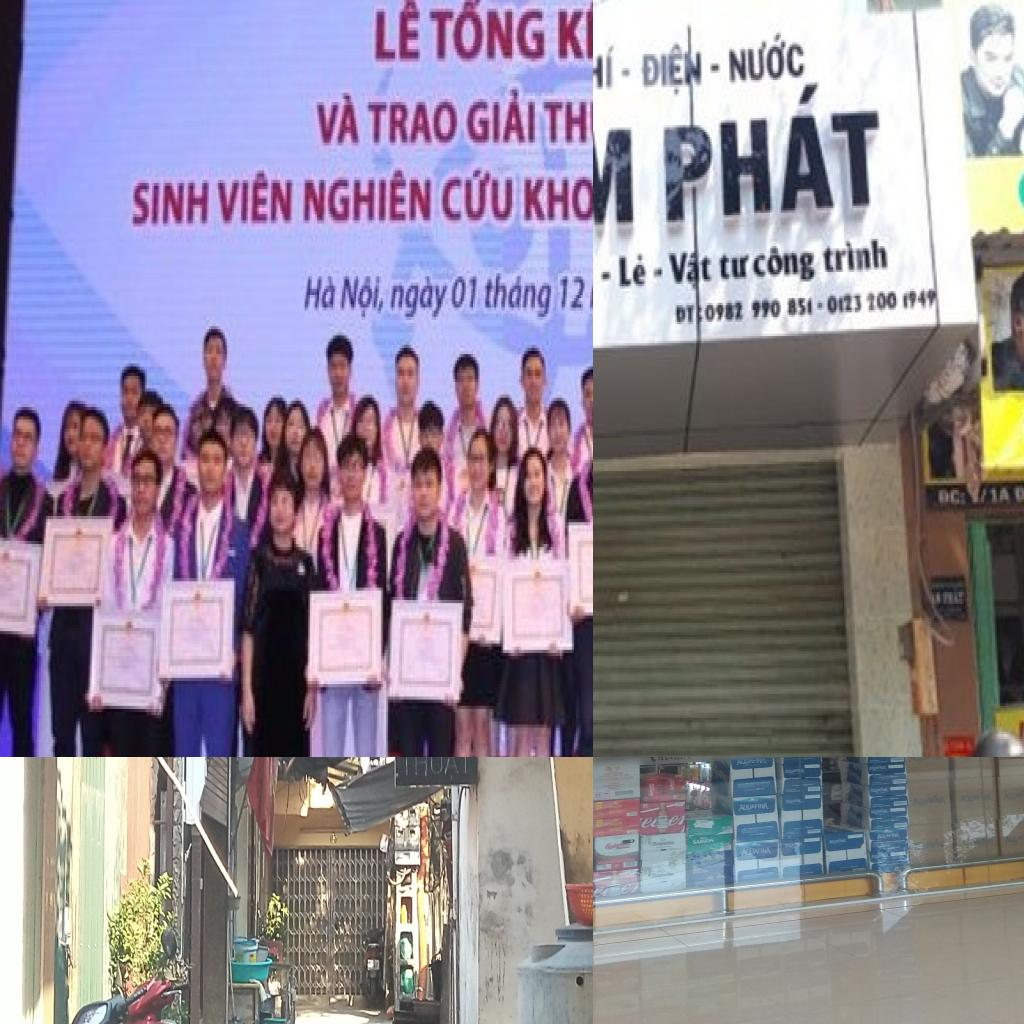text: (652, 75, 886, 232), (301, 161, 436, 233), (427, 0, 551, 71), (210, 164, 298, 236), (439, 155, 519, 230), (466, 77, 540, 155), (593, 118, 640, 239), (364, 92, 462, 148), (724, 26, 808, 90), (480, 270, 556, 332), (128, 176, 212, 232), (519, 170, 593, 232), (384, 270, 456, 329), (366, 0, 425, 70), (702, 291, 816, 327), (638, 40, 707, 99), (310, 87, 367, 158), (825, 286, 940, 320), (538, 83, 593, 154), (749, 241, 819, 289), (819, 236, 893, 277), (552, 0, 593, 68), (335, 273, 388, 323), (664, 244, 716, 294), (301, 267, 342, 317), (554, 270, 590, 320), (446, 270, 482, 317), (616, 248, 650, 294), (716, 246, 751, 284), (593, 42, 618, 94), (935, 486, 964, 512), (672, 300, 696, 329), (988, 483, 1012, 509), (914, 837, 950, 853), (912, 794, 947, 808), (958, 792, 994, 804), (1012, 478, 1024, 509), (741, 846, 773, 857), (738, 802, 770, 812), (646, 757, 694, 763), (736, 758, 770, 766), (1003, 832, 1024, 843), (875, 832, 901, 840), (783, 768, 807, 776), (908, 757, 945, 762), (784, 798, 806, 806), (869, 787, 891, 795), (828, 838, 848, 846), (868, 765, 888, 773), (870, 809, 890, 816), (783, 842, 803, 848), (692, 838, 715, 843), (957, 757, 991, 760)
